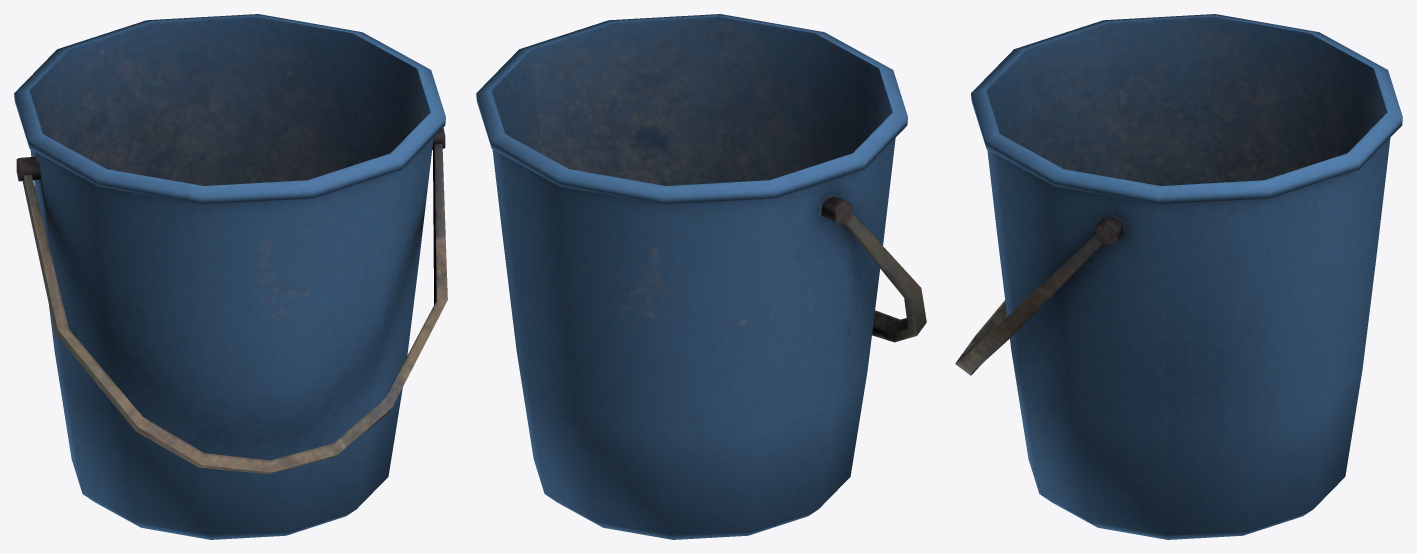
File: BigBucket.FBX
3 views of the same model, side by side, from view 1: azimuth 30°, elevation 25°; view 2: azimuth 150°, elevation 25°; view 3: azimuth 270°, elevation 25° (orthographic).
Parts seen in each view (by area): view 1: BigBucket; view 2: BigBucket; view 3: BigBucket.
Part boxes in pixels (x1,y1,x2,y2): BigBucket: (14,14,447,539); BigBucket: (476,14,926,539); BigBucket: (955,14,1402,539).
Size of the model in its own units: 57.95 by 53.9 by 57.96.
